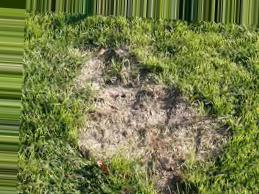patch: (96, 80, 167, 137), (194, 123, 226, 147), (153, 145, 180, 163), (171, 115, 190, 139), (94, 142, 117, 152)
